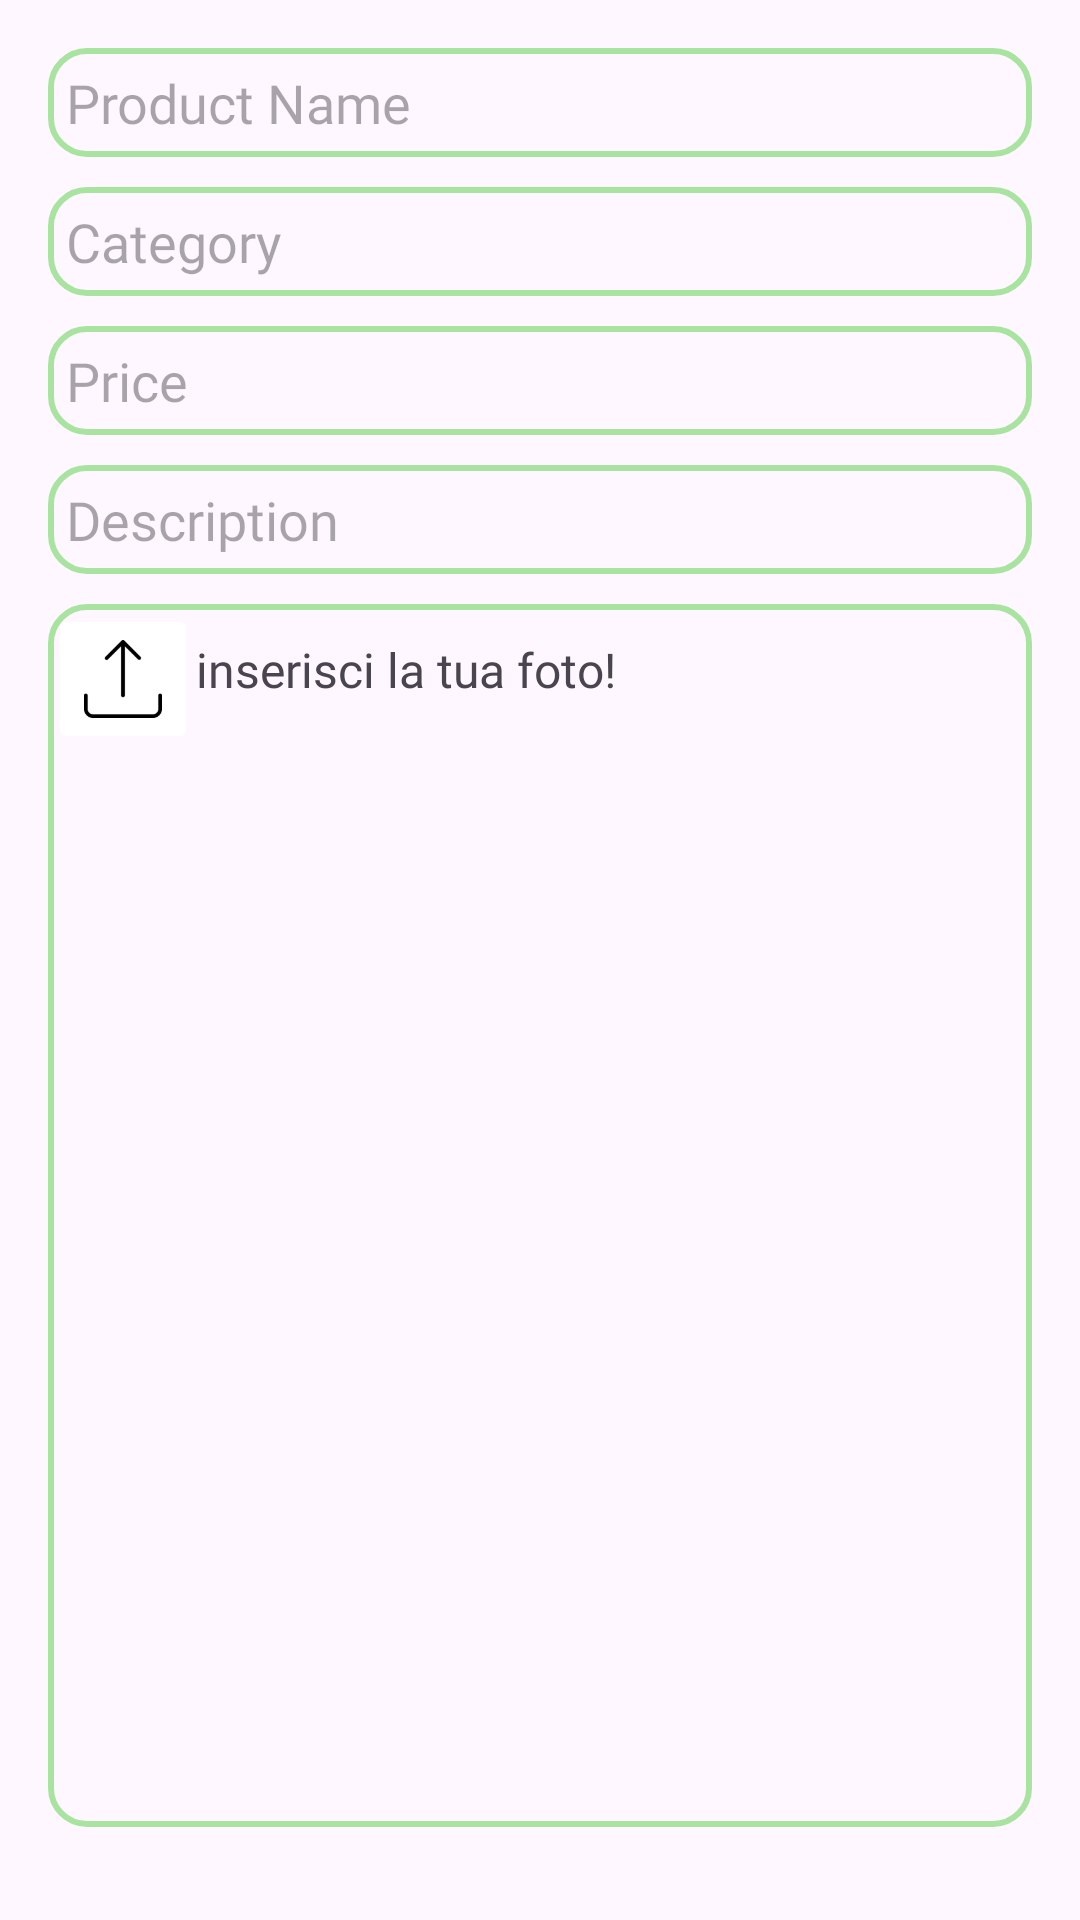

Icons on this 1080x1920 Android screen, each with its box as (x1, y1, x2, y2):
upload: (48, 604, 198, 754)
